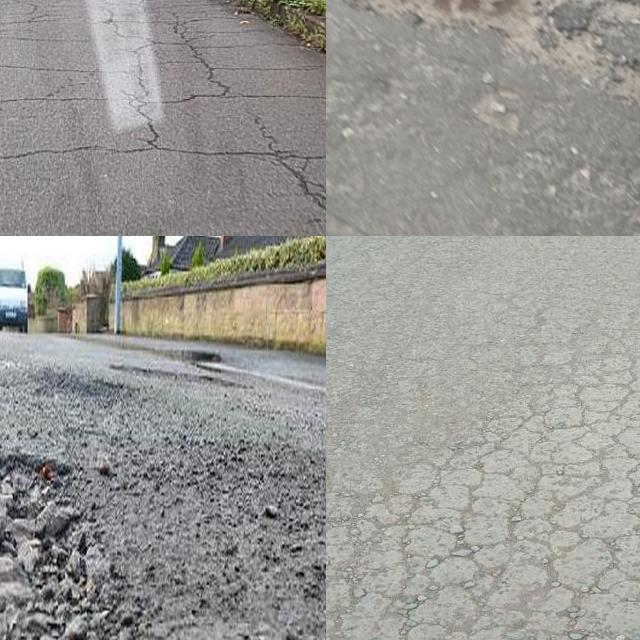Lubang: (356, 0, 640, 108), (0, 442, 142, 640)
Melintang: (0, 130, 326, 172)
Memanjang: (143, 5, 326, 236)
Retak Buaya: (326, 347, 640, 640)
